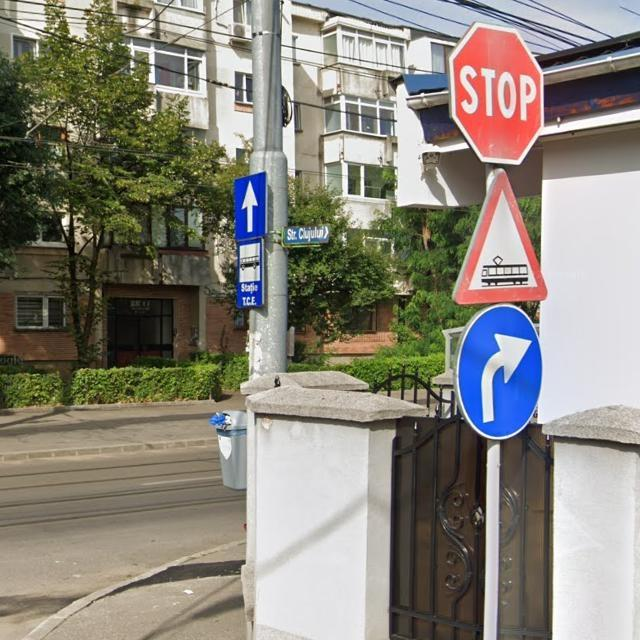prio_stop: (448, 22, 546, 167)
